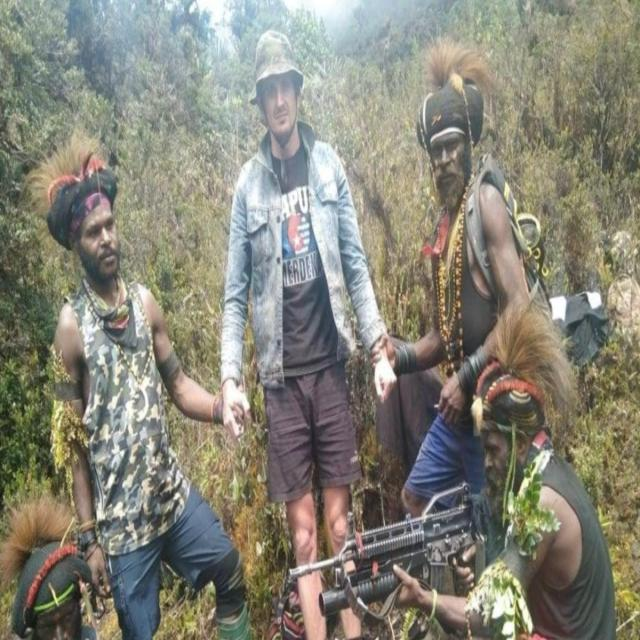Forest: (0, 0, 640, 640)
Militant: (404, 48, 613, 640), (33, 152, 283, 638), (222, 19, 384, 634)
